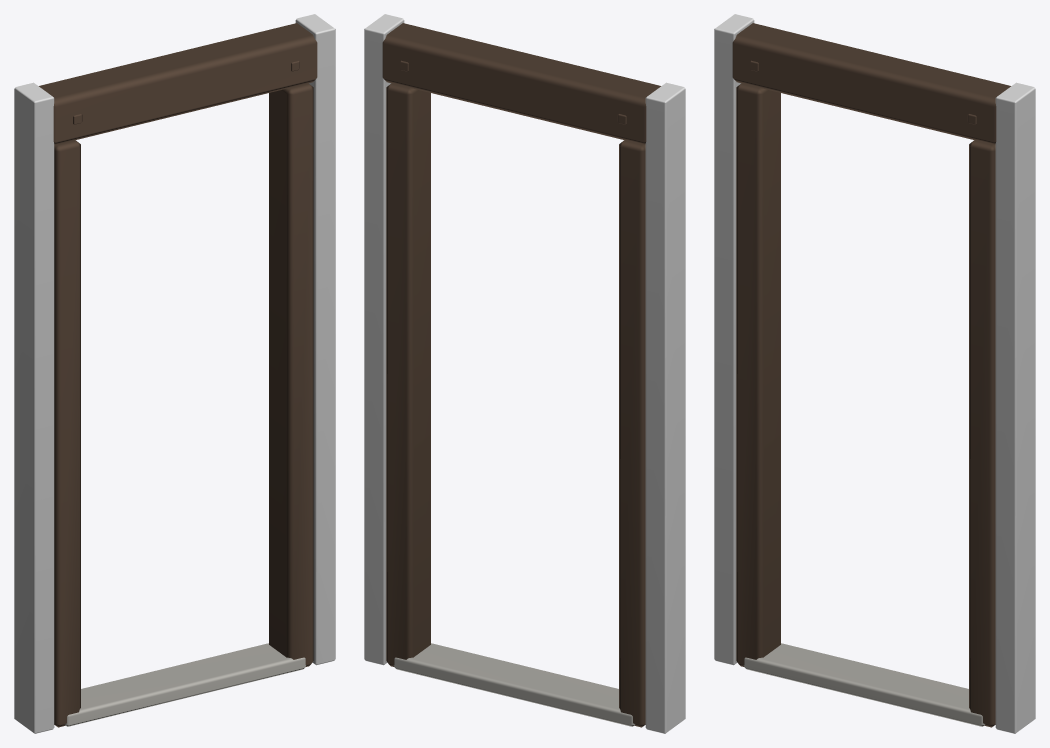
Rendered from plaster-door-frame.glb.
The picture shows the model from 3 angles, left to right: view 1: azimuth 30°, elevation 25°; view 2: azimuth 150°, elevation 25°; view 3: azimuth 330°, elevation 25°; orthographic projection.
Parts seen in each view (by area): view 1: body; view 2: body; view 3: body.
Part boxes in pixels (x1,y1,x2,y2): body: [14, 14, 335, 733]; body: [364, 14, 685, 733]; body: [714, 14, 1035, 733].
Size of what is drawn, in the model's own units: 1 by 2 by 0.1399.
